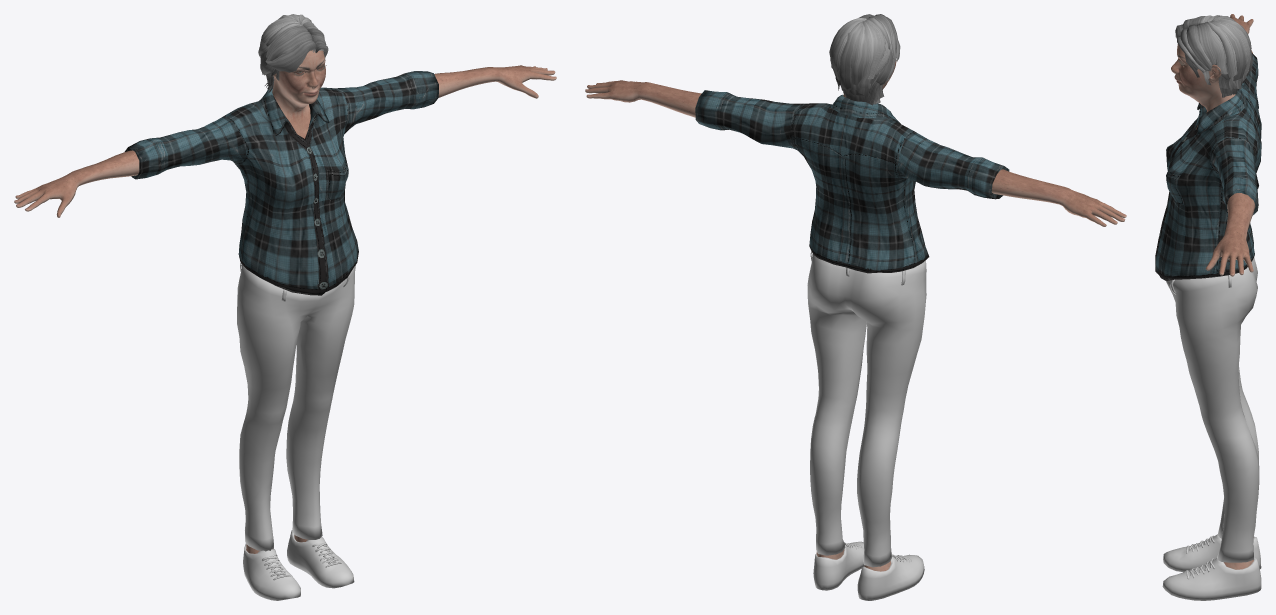
Rendered from grandma.obj.
3 views of the same model, side by side, from view 1: azimuth 30°, elevation 25°; view 2: azimuth 150°, elevation 25°; view 3: azimuth 270°, elevation 25° (orthographic).
Visible parts, largest first — view 1: grandma.005, grandma.004, grandma.001, grandma.003, grandma, grandma.002; view 2: grandma.005, grandma.004, grandma.001, grandma, grandma.003; view 3: grandma.004, grandma.005, grandma.003, grandma, grandma.001, grandma.002.
Boxes of the visible parts, left/top/right/bottom form: grandma.005: left=124, top=71, right=438, bottom=295; grandma.004: left=237, top=263, right=355, bottom=551; grandma.001: left=14, top=65, right=556, bottom=553; grandma.003: left=243, top=530, right=354, bottom=600; grandma: left=258, top=14, right=328, bottom=92; grandma.002: left=272, top=50, right=326, bottom=138; grandma.005: left=695, top=90, right=1009, bottom=273; grandma.004: left=807, top=251, right=926, bottom=567; grandma.001: left=585, top=80, right=1126, bottom=571; grandma: left=829, top=14, right=900, bottom=105; grandma.003: left=813, top=541, right=924, bottom=600; grandma.004: left=1166, top=257, right=1259, bottom=562; grandma.005: left=1155, top=53, right=1261, bottom=280; grandma.003: left=1162, top=534, right=1261, bottom=600; grandma: left=1175, top=15, right=1252, bottom=97; grandma.001: left=1205, top=14, right=1255, bottom=569; grandma.002: left=1171, top=44, right=1235, bottom=129.
Size of the model in its own units: 179 by 178 by 30.64.
